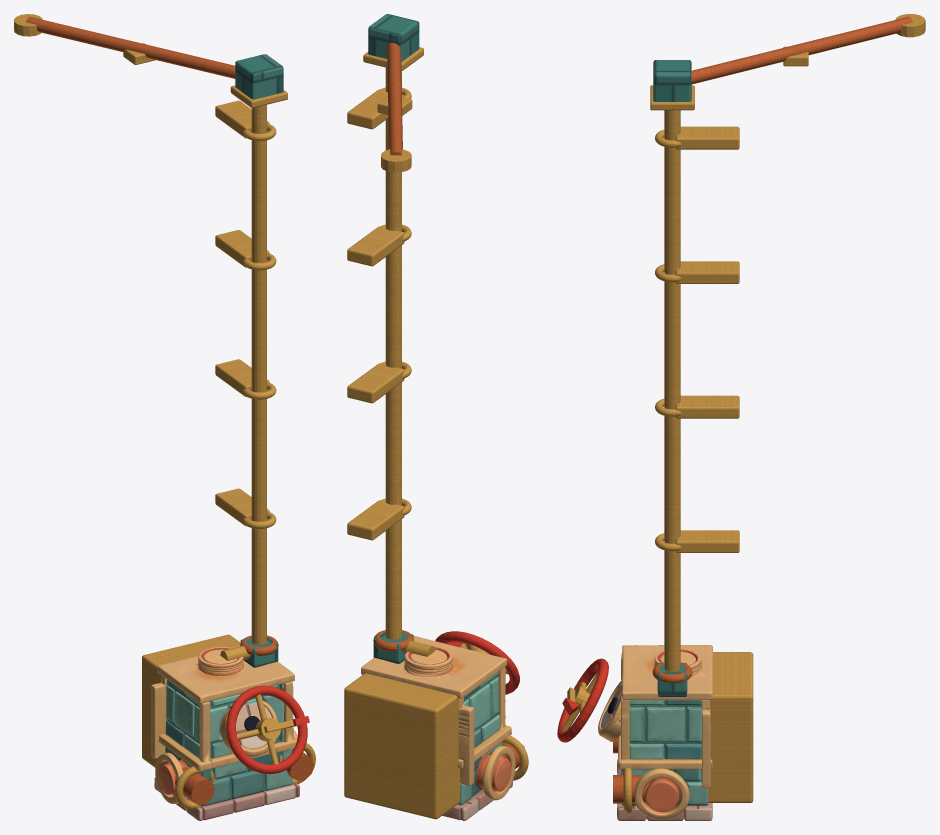
Rendered from act2_horn_dial_R.glb.
3 views of the same model, side by side, from view 1: azimuth 30°, elevation 25°; view 2: azimuth 150°, elevation 25°; view 3: azimuth 270°, elevation 25° (orthographic). The views are drawn at different scales.
Parts seen in each view (by area): view 1: SM_Act2_HornDialR_Transmission_Mesh, RODIN_act2_tower_dial_rodin_Part, ANIM_Dial_Wheel_Mesh; view 2: SM_Act2_HornDialR_Transmission_Mesh, RODIN_act2_tower_dial_rodin_Part, ANIM_Dial_Wheel_Mesh; view 3: SM_Act2_HornDialR_Transmission_Mesh, RODIN_act2_tower_dial_rodin_Part, ANIM_Dial_Wheel_Mesh.
Boxes of the visible parts, x1,y1,x2,y2 form: SM_Act2_HornDialR_Transmission_Mesh: (14,14,315,809); RODIN_act2_tower_dial_rodin_Part: (151,645,299,820); ANIM_Dial_Wheel_Mesh: (226,685,309,774); SM_Act2_HornDialR_Transmission_Mesh: (344,14,528,819); RODIN_act2_tower_dial_rodin_Part: (361,636,515,820); ANIM_Dial_Wheel_Mesh: (435,631,519,694); SM_Act2_HornDialR_Transmission_Mesh: (613,14,925,813); RODIN_act2_tower_dial_rodin_Part: (598,645,712,820); ANIM_Dial_Wheel_Mesh: (557,658,608,742).
Size of the model in its own units: 0.9238 by 3.88 by 1.73.
Materials: 5 (4 with a texture image).
